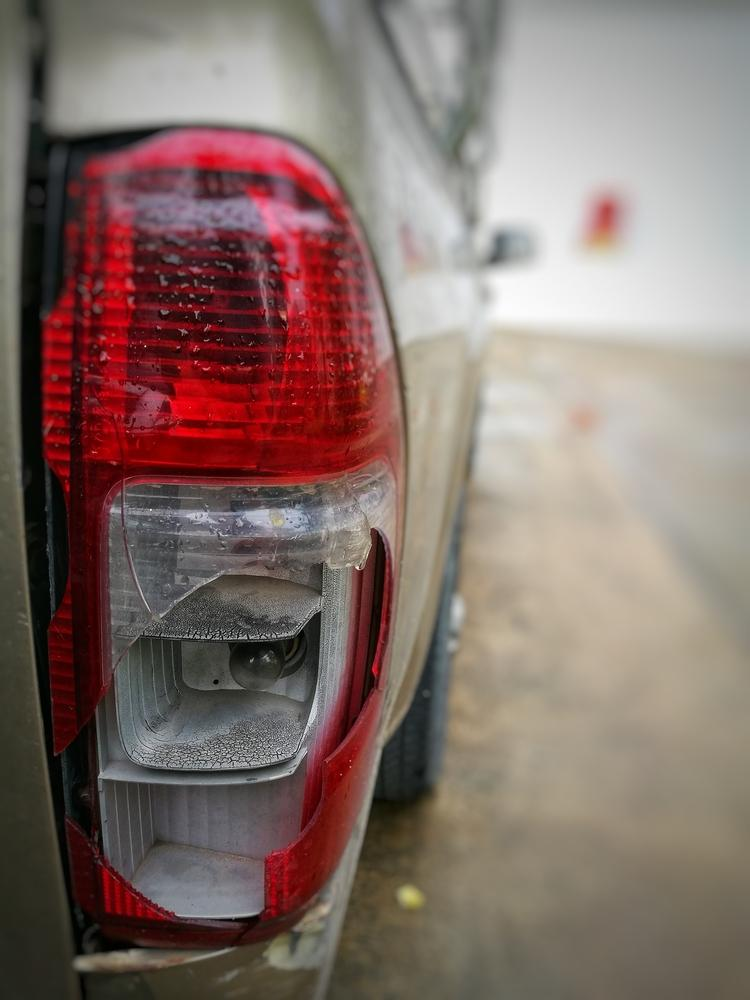lamp broken: (34, 122, 403, 954)
